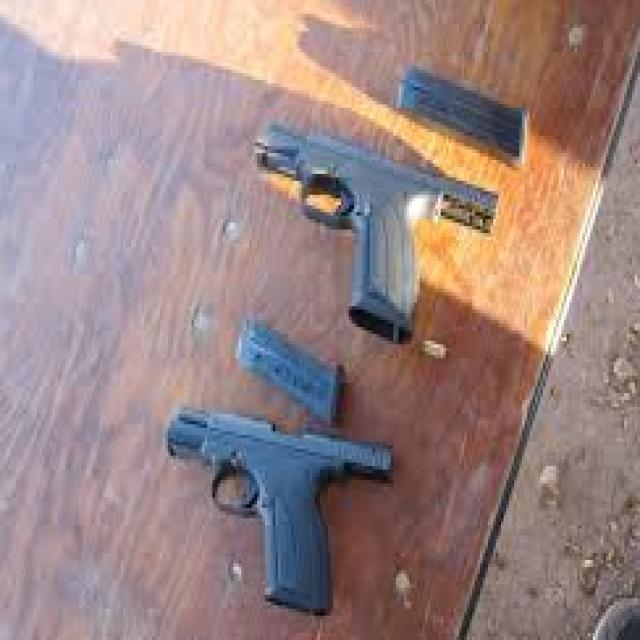Gun: (219, 122, 465, 347), (150, 388, 354, 628)
